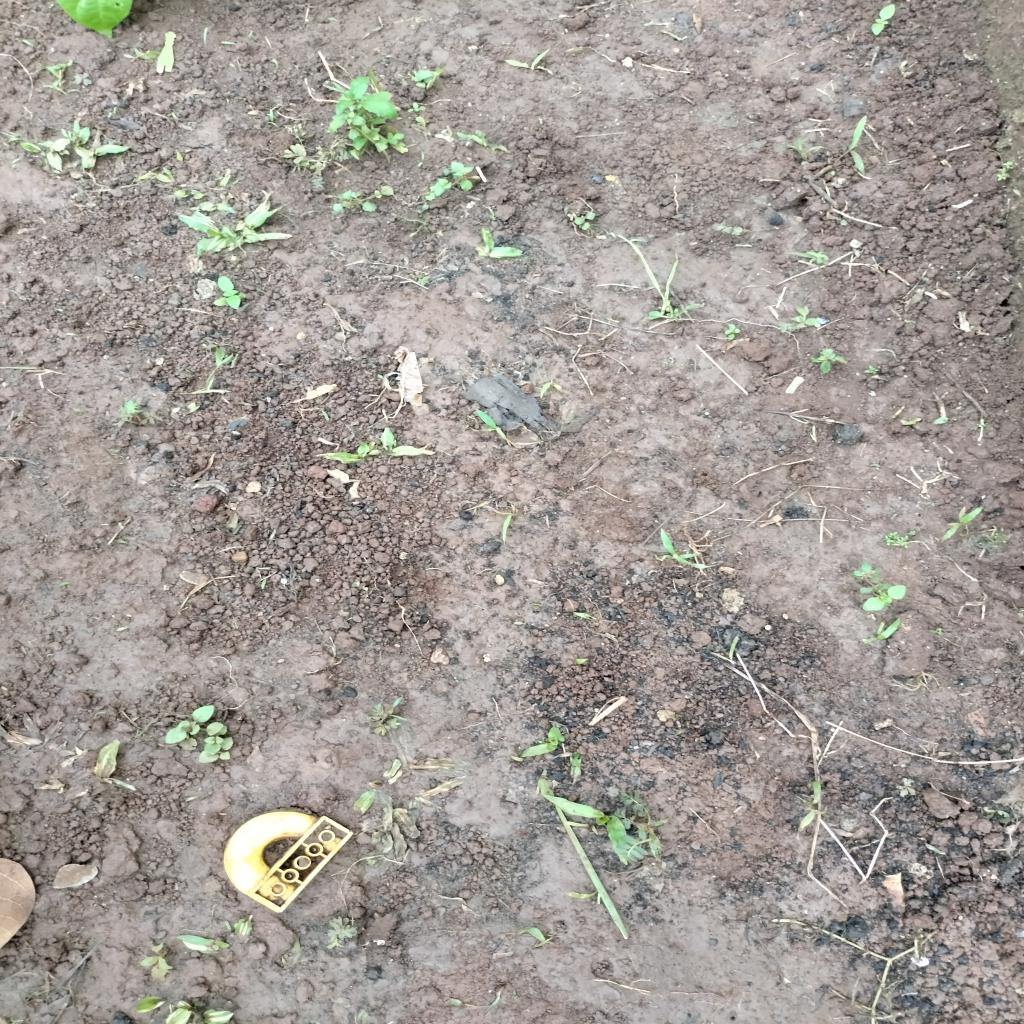buah daun: (281, 141, 361, 191)
lumut besar: (882, 530, 920, 550)
rambat atas: (658, 524, 716, 573), (839, 110, 869, 178), (942, 506, 986, 540), (859, 617, 904, 645), (506, 50, 554, 74), (494, 504, 520, 546), (473, 406, 503, 434)
rambat bawah: (536, 794, 636, 866), (522, 724, 566, 758)
tunggang besar: (326, 73, 406, 154), (163, 705, 219, 745), (212, 272, 246, 312)
tunggang tengah: (851, 559, 891, 595)
